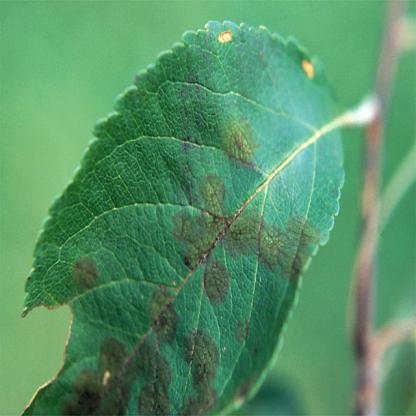apple scab leaf: (13, 8, 352, 415)
